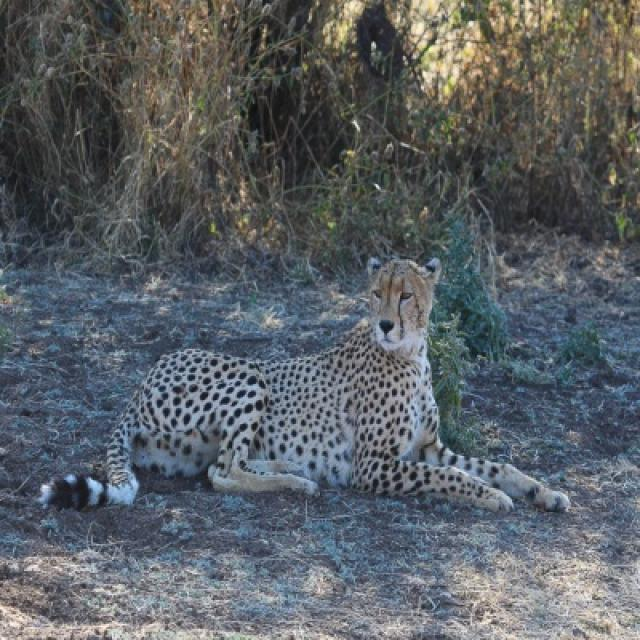Cheetah: (40, 261, 571, 514)
